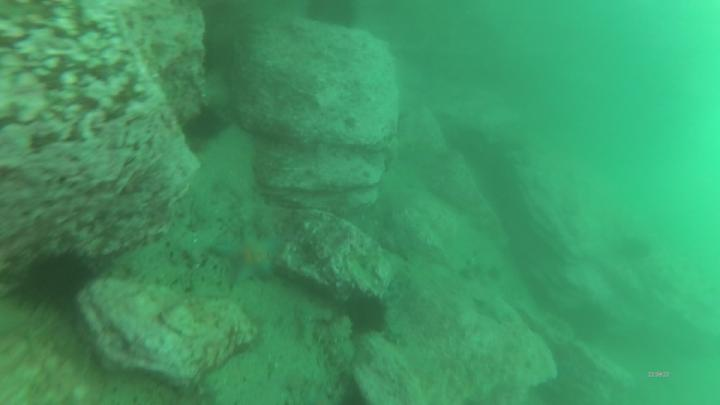echinus: (26, 255, 85, 308), (183, 106, 227, 141), (347, 297, 386, 333), (308, 3, 358, 31)
starfish: (219, 230, 278, 282), (477, 291, 512, 324)
